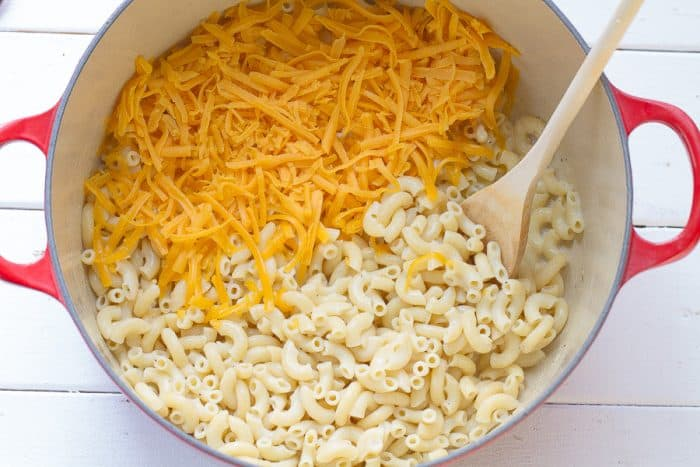macncheese: (239, 189, 638, 467)
